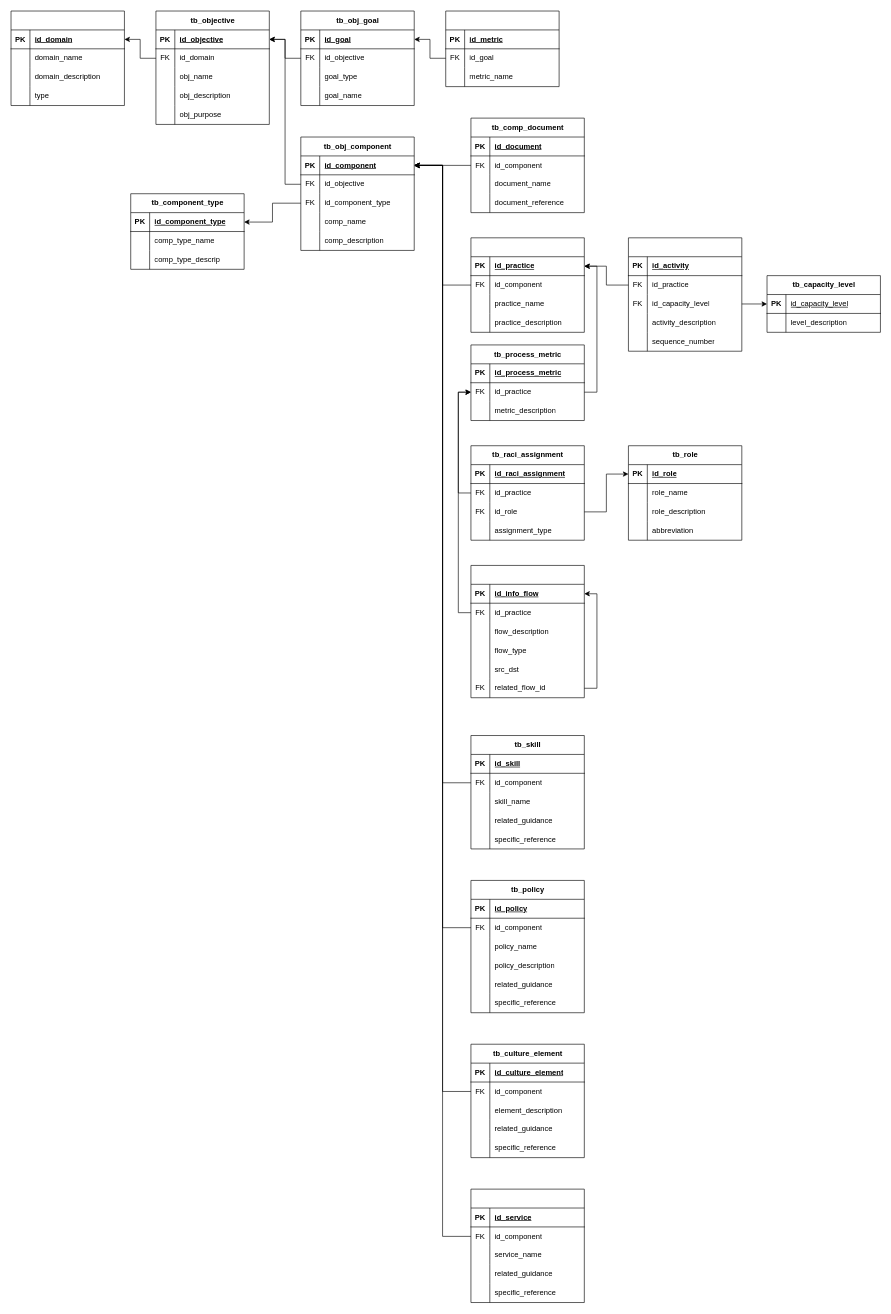
The diagram is 891 pixels wide and 1314 high, and some of its shapes have lost their labels. Each missing label, with the box of its shape:
tb_activity: (628, 237, 742, 351)
tb_domain: (10, 10, 124, 106)
tb_goal_metric: (445, 10, 559, 87)
tb_info_flow: (470, 565, 584, 698)
tb_practice: (470, 237, 584, 332)
tb_service: (470, 1188, 584, 1303)
